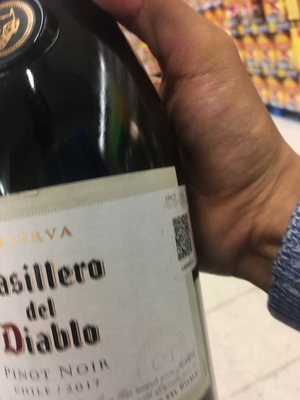casillero del diablo pinot noir: (2, 6, 211, 400)
